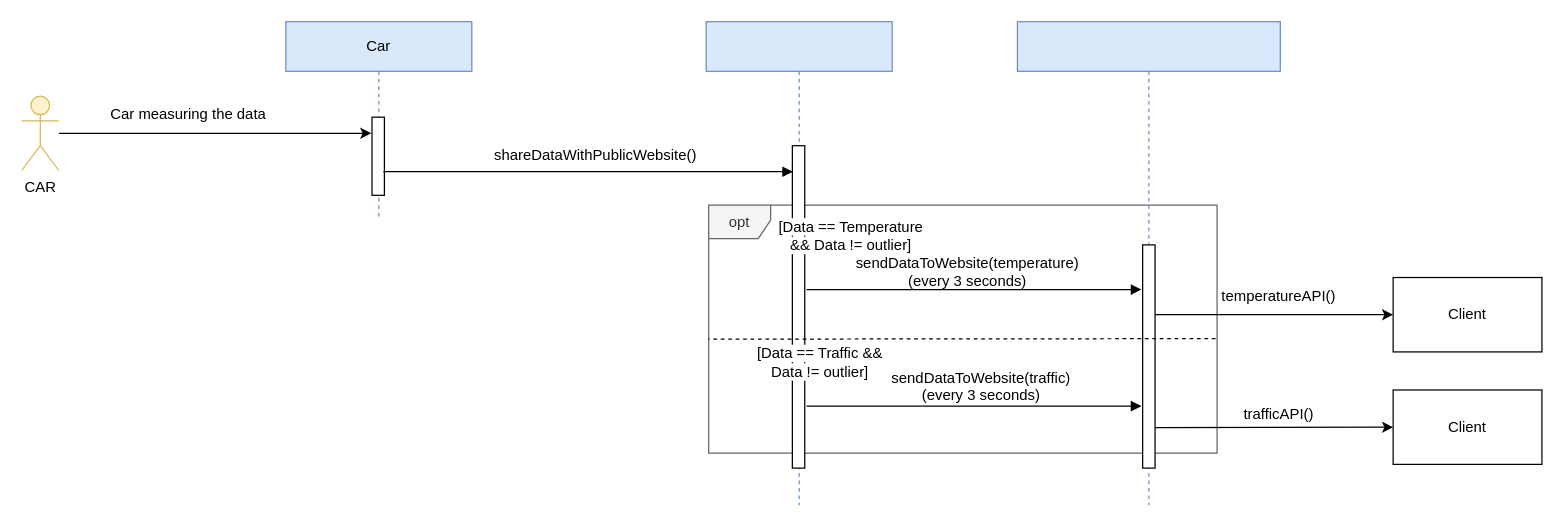
The diagram is 1564 pixels wide and 527 high, and some of its shapes have lost their labels. Here are the shapes that lost their labels. From the top down, the box of each, then its label:
(705, 20, 892, 505): selectStrategy
(1016, 20, 1280, 505): Website
